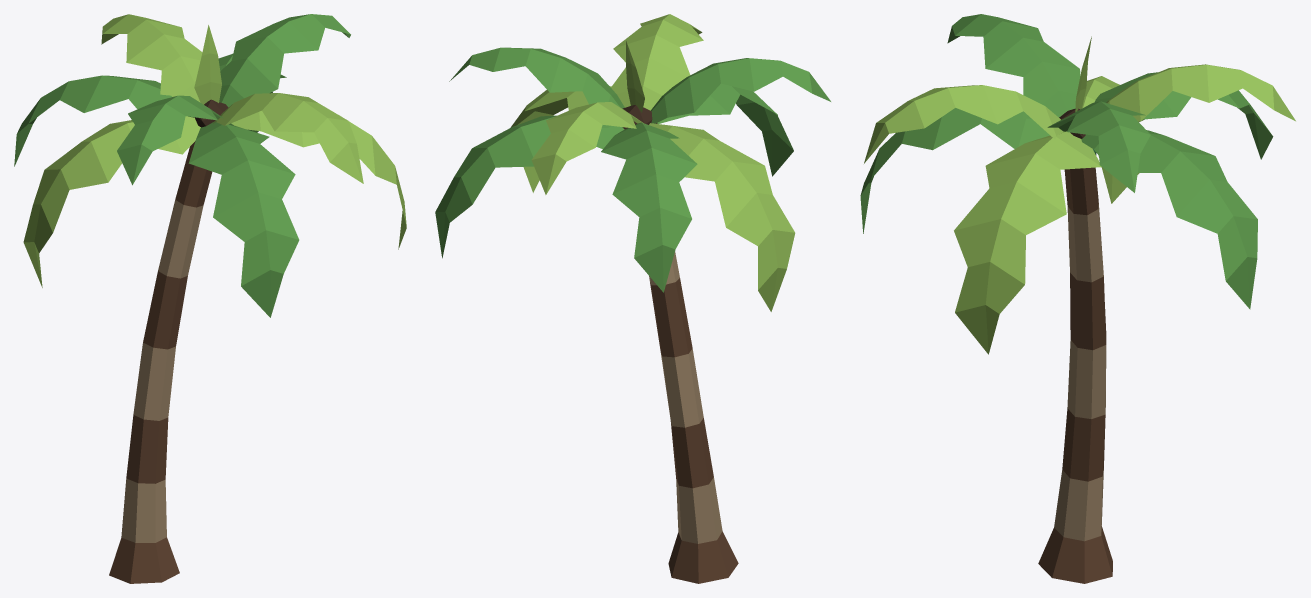
The model's file is palm_a.glb.
3 views of the same model, side by side, from view 1: azimuth 30°, elevation 25°; view 2: azimuth 150°, elevation 25°; view 3: azimuth 270°, elevation 25° (orthographic). The views are drawn at different scales.
Visible parts, largest first — view 1: Canopy, Trunk; view 2: Canopy, Trunk; view 3: Canopy, Trunk.
Boxes of the visible parts, <box> form: Canopy: <box>14,14,406,317</box>; Trunk: <box>109,141,212,583</box>; Canopy: <box>435,14,830,311</box>; Trunk: <box>649,251,738,583</box>; Canopy: <box>860,14,1295,354</box>; Trunk: <box>1038,167,1112,583</box>.
Size of the model in its own units: 5.91 by 9.1 by 6.29.
